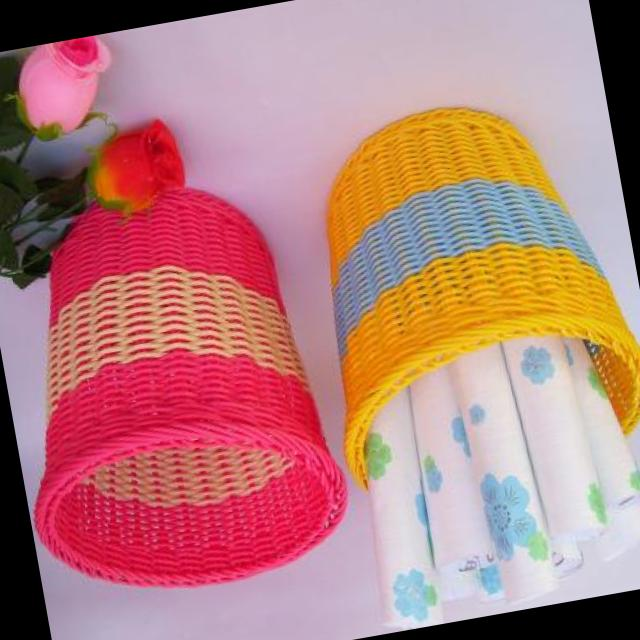dustbin: (0, 163, 362, 617), (287, 75, 640, 495)
